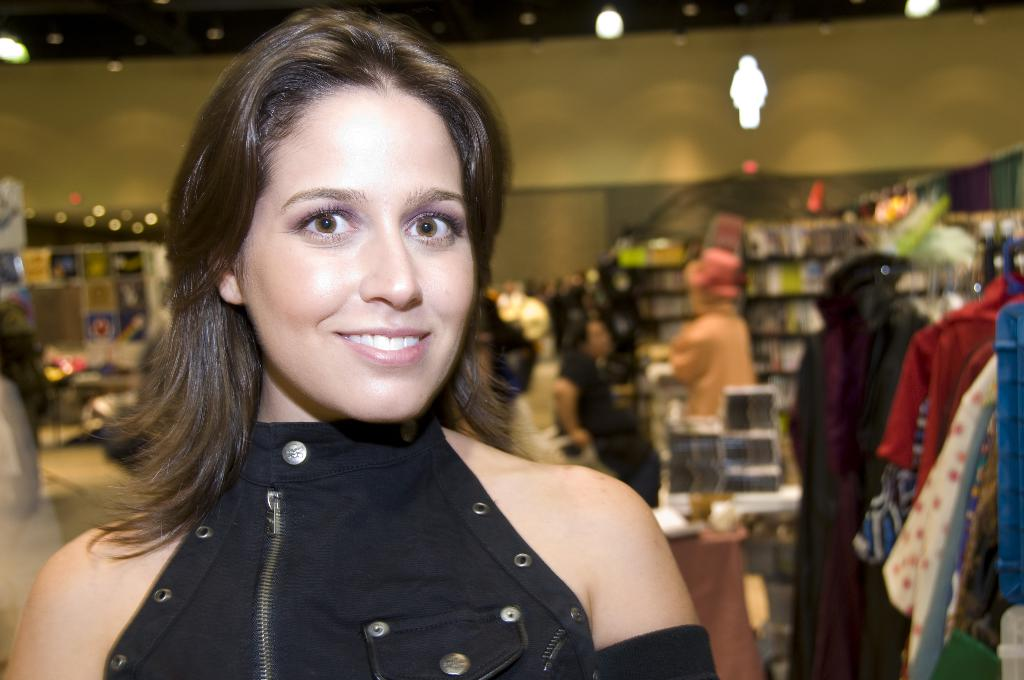Human-face: (232, 85, 479, 417)
